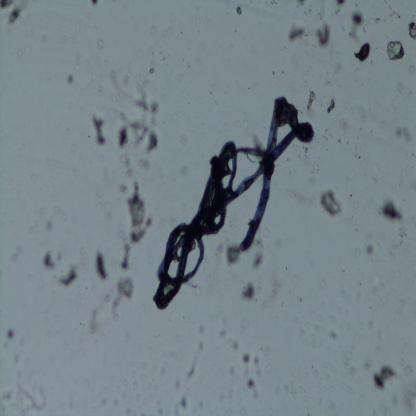Background material: (124, 182, 158, 245), (121, 115, 161, 155), (2, 376, 44, 414), (110, 273, 140, 320), (106, 66, 137, 98), (135, 84, 162, 118), (318, 186, 341, 216), (347, 7, 368, 38), (186, 344, 204, 379), (375, 366, 396, 394), (92, 115, 109, 149), (39, 244, 59, 272), (384, 40, 407, 64), (92, 248, 108, 282), (391, 123, 416, 144), (384, 199, 404, 223), (268, 264, 280, 304), (317, 21, 333, 50), (288, 21, 310, 42), (86, 307, 103, 333), (58, 264, 78, 286), (352, 40, 370, 64), (240, 280, 259, 300), (118, 155, 133, 180), (1, 318, 18, 340), (225, 244, 240, 265), (8, 6, 24, 25), (252, 250, 266, 271), (306, 86, 318, 110), (337, 283, 351, 302), (139, 154, 153, 172), (336, 114, 350, 132), (11, 244, 23, 265), (369, 274, 383, 291), (407, 18, 416, 44), (120, 244, 129, 268), (332, 0, 346, 15), (395, 78, 406, 96), (178, 162, 192, 176), (63, 71, 78, 84), (285, 380, 297, 396), (389, 8, 402, 22), (325, 97, 335, 114), (397, 224, 409, 238), (196, 320, 207, 335), (43, 217, 53, 233), (50, 202, 63, 214), (254, 357, 262, 376), (240, 316, 248, 334), (95, 38, 106, 51), (93, 184, 103, 198), (316, 276, 326, 290), (317, 6, 327, 20), (274, 235, 282, 252), (229, 340, 240, 351), (154, 404, 164, 416), (365, 242, 373, 257), (227, 364, 237, 376), (408, 394, 416, 408), (0, 0, 14, 8), (351, 247, 361, 258), (178, 135, 188, 146), (362, 360, 372, 371), (300, 144, 310, 155), (194, 398, 203, 410), (120, 180, 128, 193), (124, 408, 137, 416), (402, 366, 413, 375), (158, 365, 167, 376), (236, 408, 248, 416), (247, 379, 256, 389), (329, 330, 338, 340), (218, 331, 228, 340), (12, 353, 22, 362), (173, 401, 179, 416), (310, 364, 318, 375), (241, 365, 249, 376), (87, 0, 99, 7), (294, 0, 306, 7), (175, 380, 182, 392), (236, 5, 243, 17), (252, 388, 259, 400), (297, 327, 306, 336), (391, 243, 396, 259), (352, 198, 360, 208), (243, 354, 251, 364), (198, 40, 206, 50), (180, 398, 188, 407), (353, 144, 358, 158), (16, 47, 22, 58), (216, 247, 224, 255), (360, 114, 367, 123), (370, 176, 378, 183), (349, 365, 355, 374), (19, 338, 25, 347), (148, 67, 156, 73), (310, 43, 318, 49), (100, 400, 108, 406), (323, 134, 329, 141), (297, 294, 302, 302), (271, 69, 276, 77), (340, 24, 345, 32), (114, 399, 119, 407), (308, 3, 312, 13), (161, 54, 166, 61), (411, 65, 415, 73), (399, 239, 404, 245), (271, 0, 276, 6), (330, 133, 334, 139), (359, 292, 363, 298), (412, 148, 415, 156), (140, 412, 146, 416), (336, 138, 342, 142), (340, 269, 347, 272), (306, 411, 310, 416), (280, 70, 285, 74), (355, 228, 359, 233), (316, 166, 319, 172), (349, 194, 353, 198), (233, 29, 237, 33), (303, 10, 307, 14), (399, 182, 401, 189), (370, 130, 373, 134), (304, 389, 307, 393), (359, 127, 362, 130), (359, 156, 361, 160), (347, 141, 349, 145), (326, 128, 327, 134), (370, 306, 372, 309), (248, 87, 250, 90), (197, 30, 200, 32), (283, 46, 286, 48), (371, 260, 373, 262), (180, 32, 182, 34), (357, 137, 359, 139)
Cotton: (152, 94, 316, 311)
